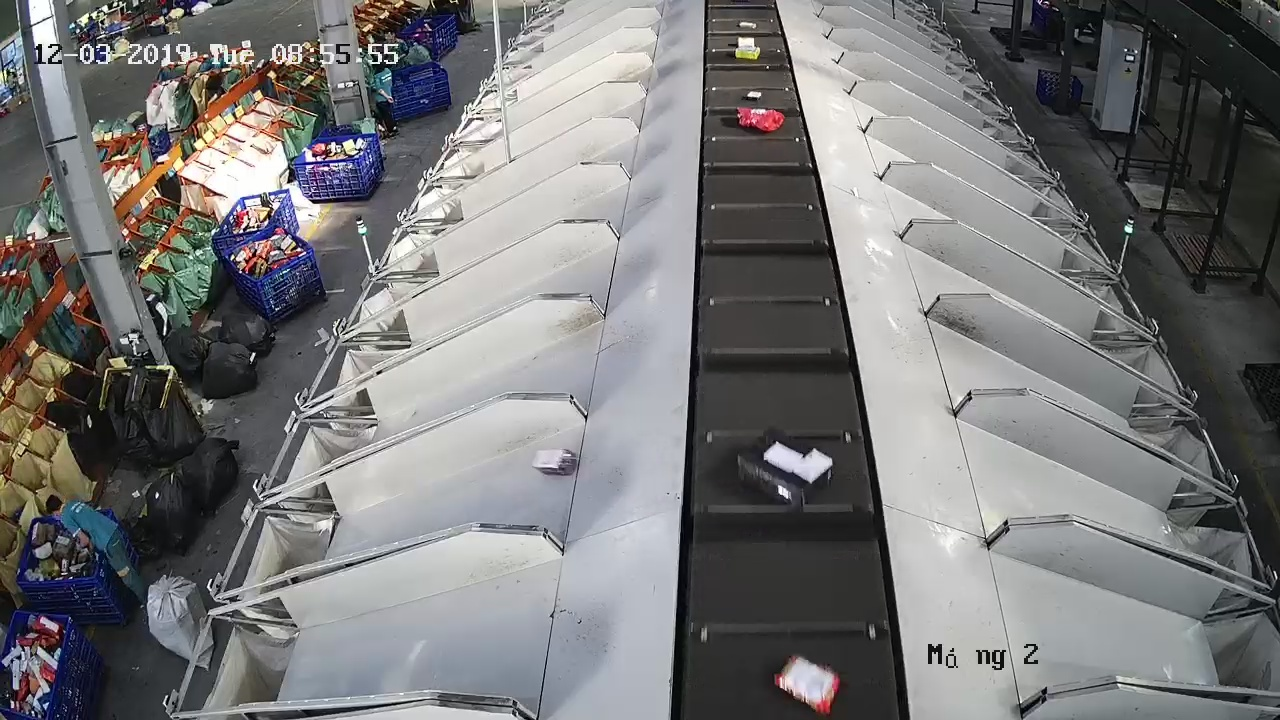parcel: (736, 425, 835, 512), (772, 652, 843, 717), (530, 447, 578, 476)
